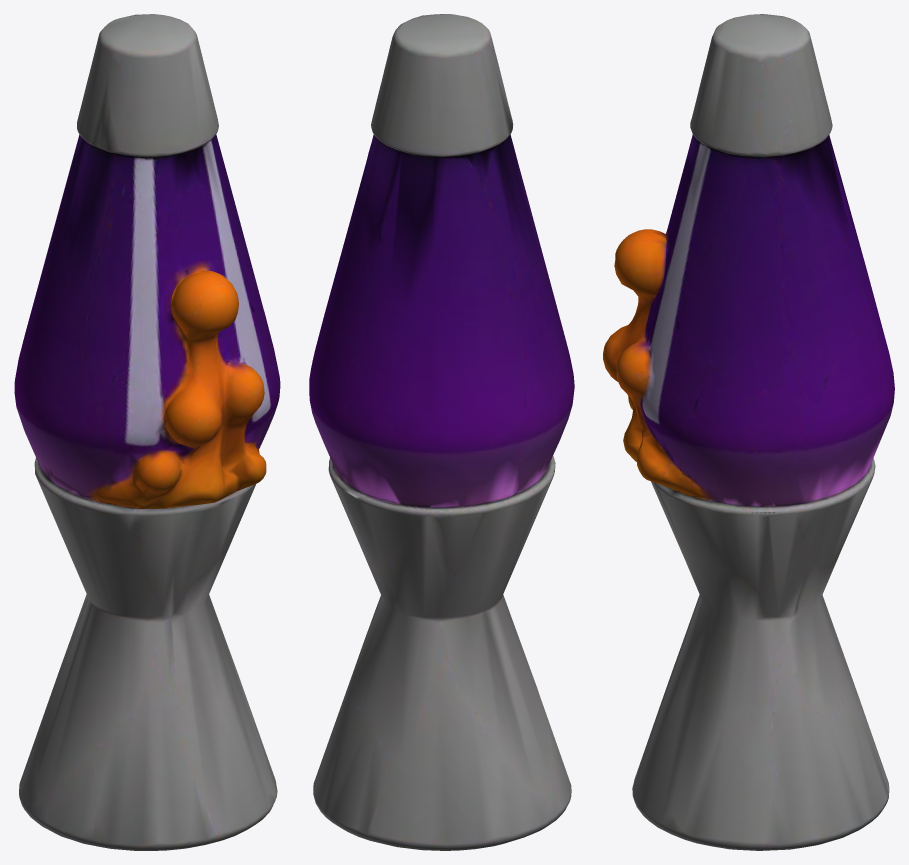
The model's file is lamp-lava-lite.glb.
The picture shows the model from 3 angles, left to right: view 1: azimuth 30°, elevation 25°; view 2: azimuth 150°, elevation 25°; view 3: azimuth 270°, elevation 25°; orthographic projection.
Parts seen in each view (by area): view 1: node_0; view 2: node_0; view 3: node_0.
Boxes of the visible parts, x1,y1,x2,y2 form: node_0: (14, 14, 280, 850); node_0: (309, 14, 574, 850); node_0: (603, 14, 894, 850).
Size of the model in its own units: 0.359 by 1.15 by 0.3951.
Materials: 1 (1 with a texture image).
